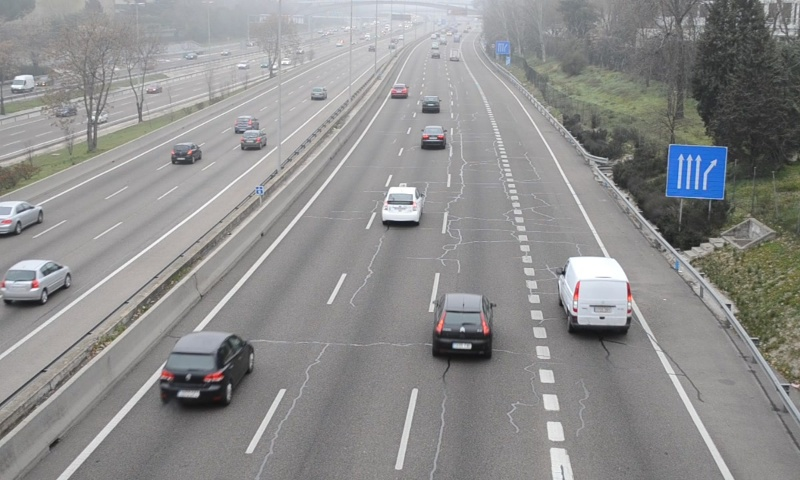car: (160, 331, 253, 404), (432, 294, 493, 356), (382, 186, 423, 222), (420, 124, 447, 150), (420, 94, 441, 115), (389, 82, 409, 98)
van: (560, 257, 630, 332)
